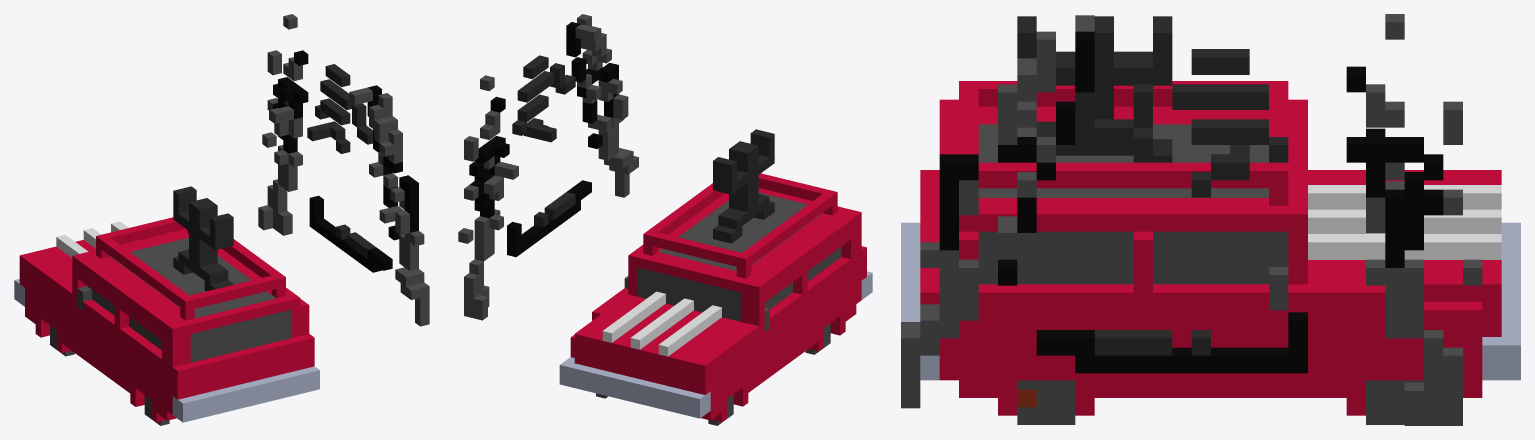
Rendered from car_14.glb.
3 renders of one model, left to right at view 1: azimuth 30°, elevation 25°; view 2: azimuth 150°, elevation 25°; view 3: azimuth 270°, elevation 25°, orthographic. The views are drawn at different scales.
Parts seen in each view (by area): view 1: ObjObject.002; view 2: ObjObject.002; view 3: ObjObject.002.
Boxes of the visible parts, x1,y1,x2,y2 form: ObjObject.002: (14,14,429,425); ObjObject.002: (458,14,872,425); ObjObject.002: (901,14,1520,425).
Bounding box in the file's own units: 2.7 × 2.9 × 3.2.
1 material, 1 textured.
